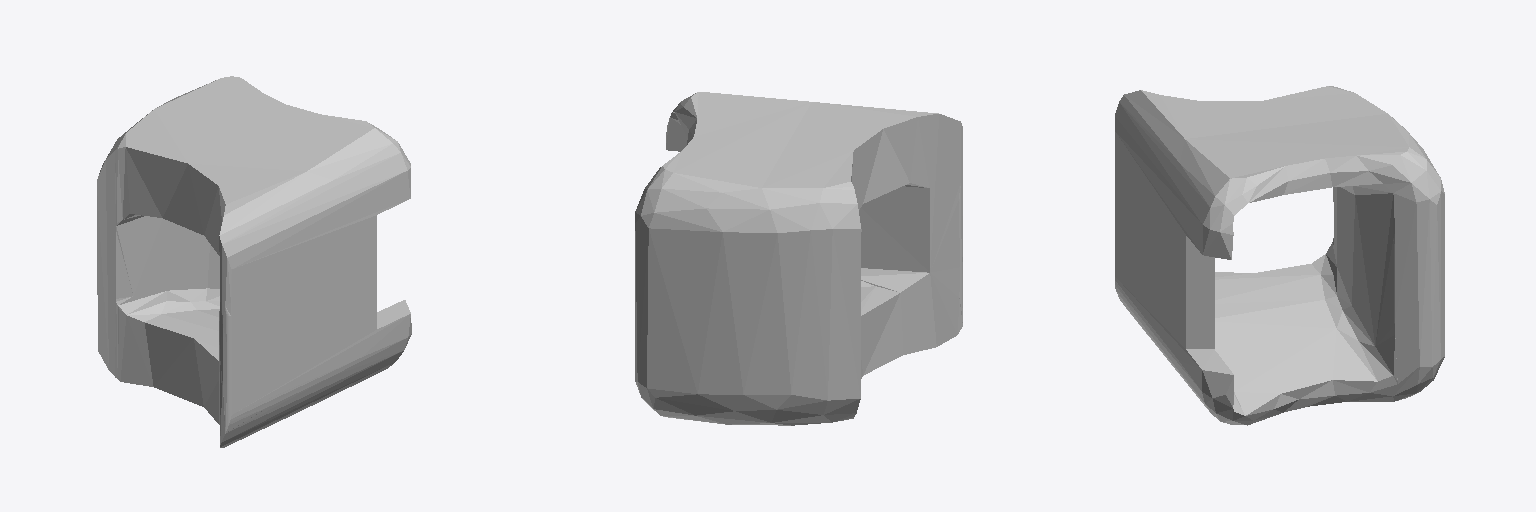
The model's file is right_collision_thumb_ip_skin_mesh_mesh.obj.
3 renders of one model, left to right at view 1: azimuth 30°, elevation 25°; view 2: azimuth 150°, elevation 25°; view 3: azimuth 270°, elevation 25°, orthographic.
Size of the model in its own units: 0.0215 by 0.0202 by 0.0243.